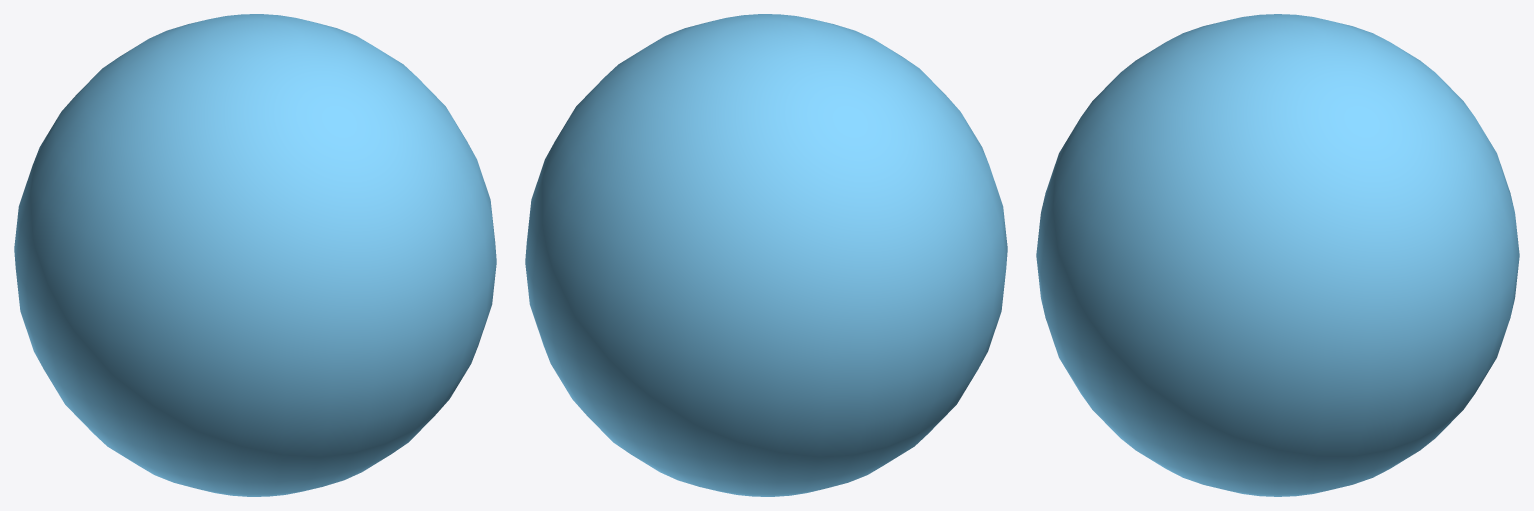
Rendered from uploads_files_3678488_teeth.fbx.
The picture shows the model from 3 angles, left to right: view 1: azimuth 30°, elevation 25°; view 2: azimuth 150°, elevation 25°; view 3: azimuth 270°, elevation 25°; orthographic projection.
Visible parts, largest first — view 1: Sphere_Sphere.001; view 2: Sphere_Sphere.001; view 3: Sphere_Sphere.001.
Part boxes in pixels (x1,y1,x2,y2): Sphere_Sphere.001: (14,14,496,496); Sphere_Sphere.001: (525,14,1007,496); Sphere_Sphere.001: (1036,14,1519,496).
Bounding box in the file's own units: 11493 × 11493 × 11493.
